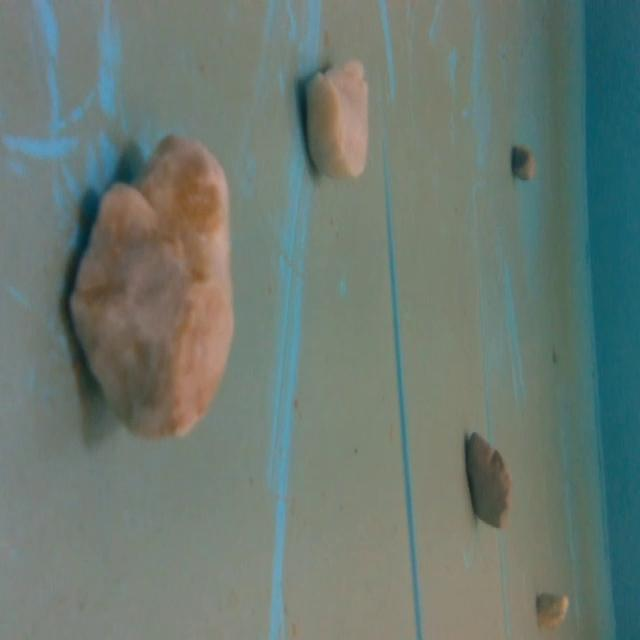rock: (65, 128, 238, 451), (296, 49, 375, 188), (458, 424, 516, 532), (532, 588, 573, 634), (508, 138, 536, 182)
